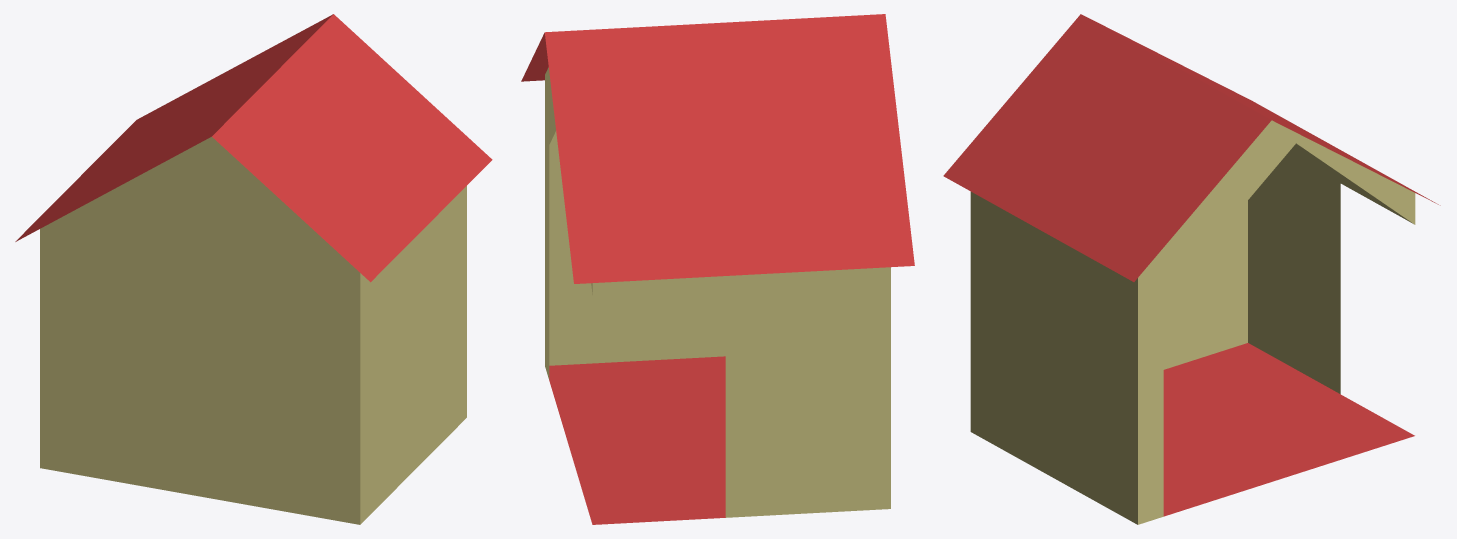
The picture shows the model from 3 angles, left to right: view 1: azimuth 30°, elevation 25°; view 2: azimuth 150°, elevation 25°; view 3: azimuth 270°, elevation 25°; orthographic projection. The views are drawn at different scales.
Bounding box in the file's own units: 12.4 × 12.75 × 10.47.
